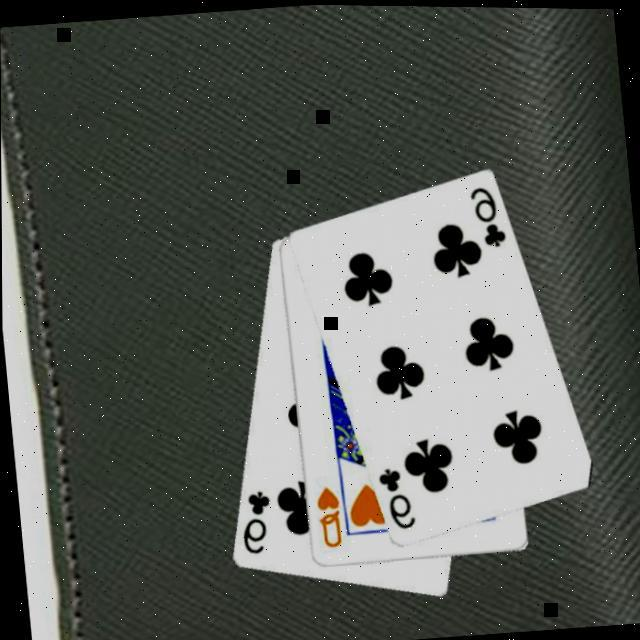6C: (374, 459, 419, 532), (466, 178, 511, 250), (234, 484, 278, 557)
QH: (312, 480, 346, 550)
